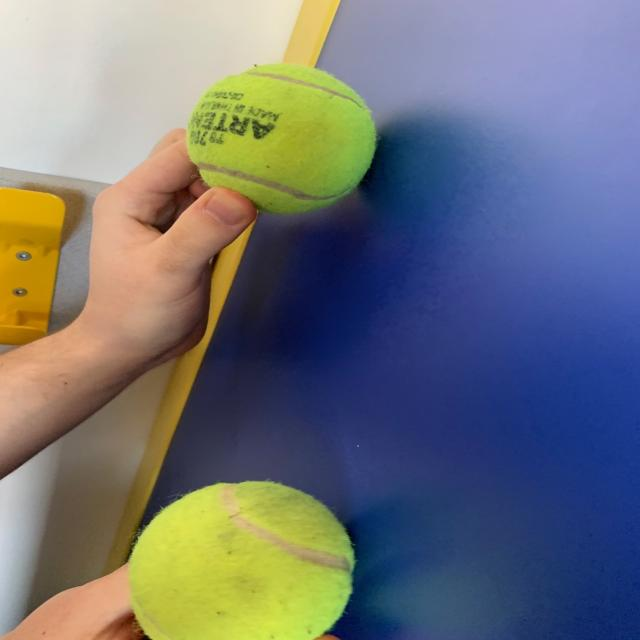Tennis-Ball: (123, 476, 365, 640), (188, 57, 388, 227)
